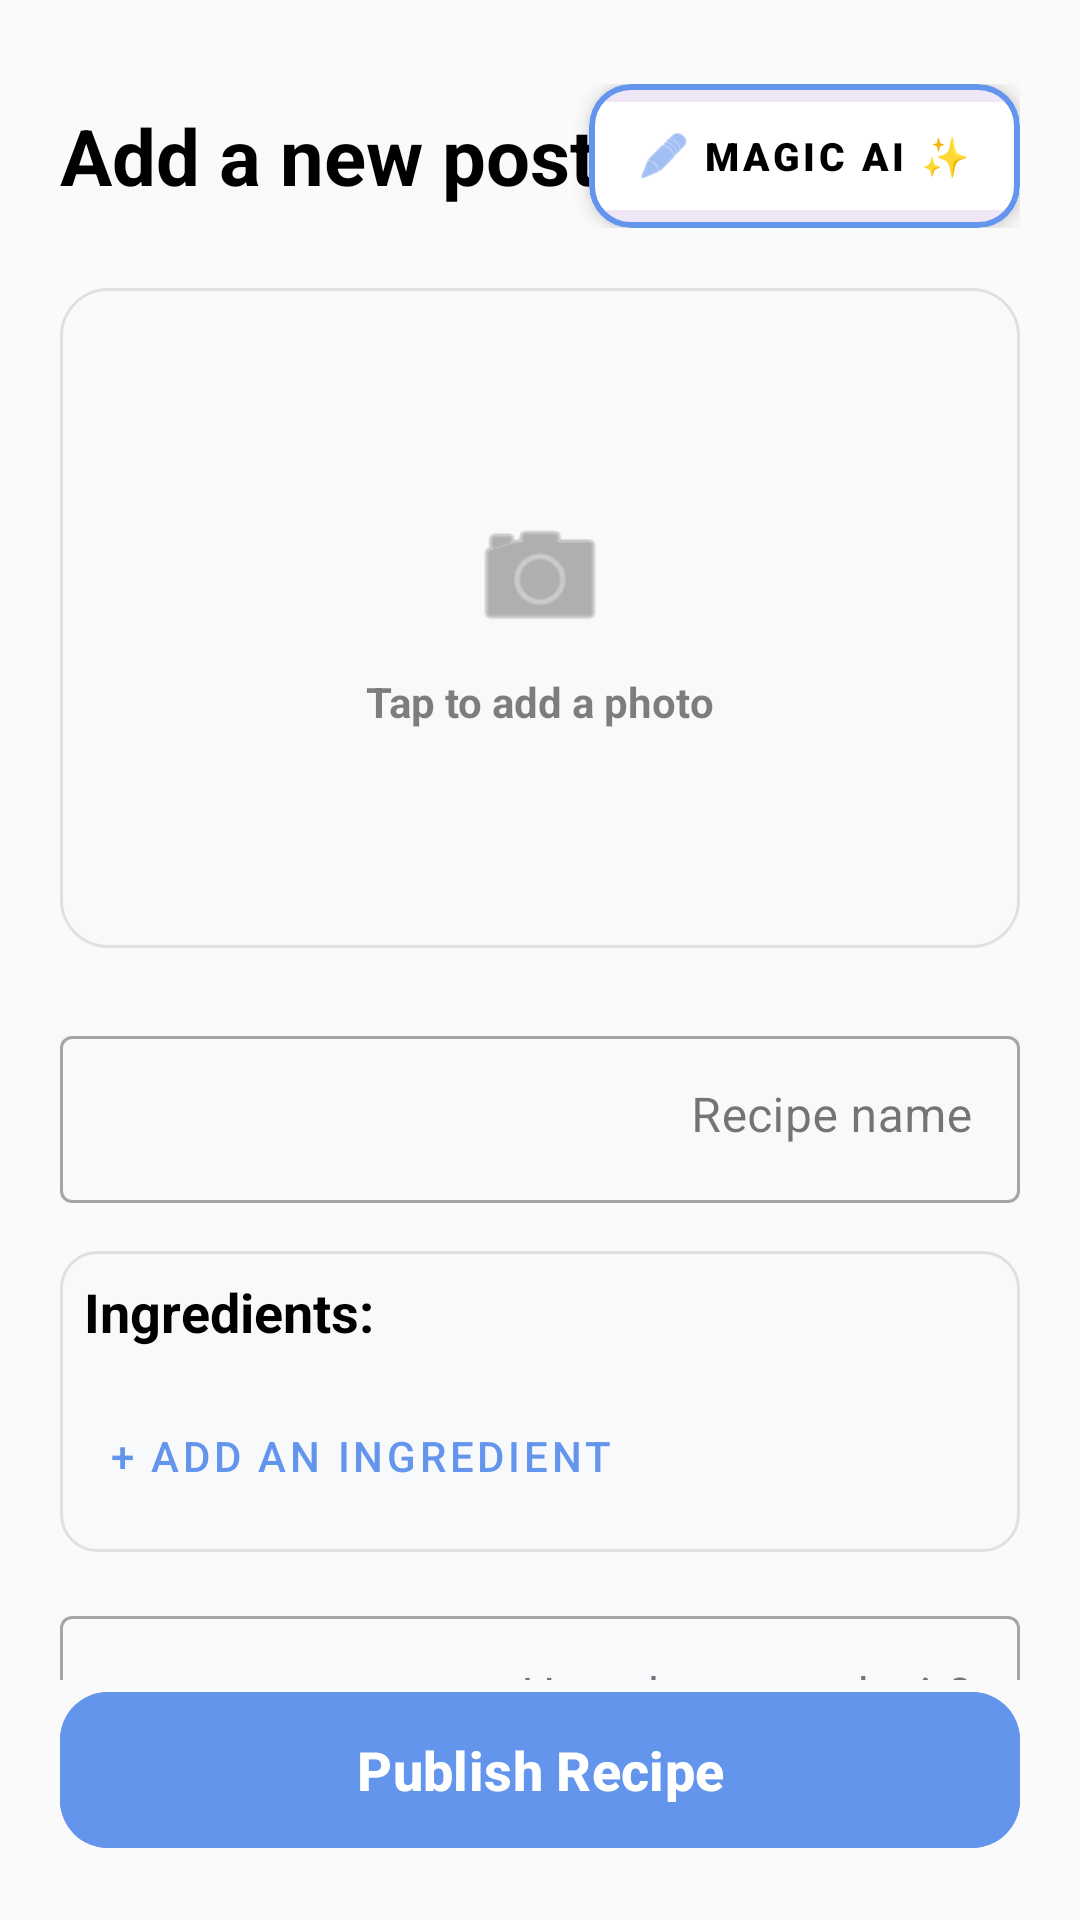

Locate icon controls on the screen. Image size 1080 × 1920, boxes as [left=x1, top=y1, right=x2, bottom=y2].
camera: [left=485, top=531, right=595, bottom=619]
